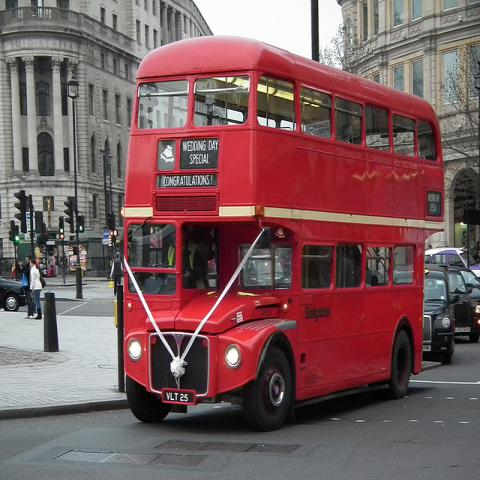bus: (124, 38, 448, 428)
car: (424, 262, 480, 343), (423, 267, 461, 364), (423, 246, 479, 279), (454, 265, 479, 303), (1, 280, 27, 312)
